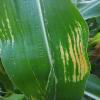Corn leaf blight: (4, 0, 91, 99)
